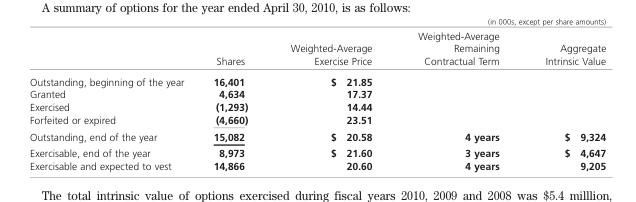table: (29, 29, 605, 171)
table column: (29, 29, 198, 171), (394, 29, 521, 171), (268, 29, 394, 171), (521, 29, 605, 171), (198, 29, 268, 171)
table column header: (29, 29, 605, 70)
table row: (29, 29, 605, 70), (29, 70, 605, 87), (29, 127, 605, 144), (29, 112, 605, 127), (29, 144, 605, 158), (29, 87, 605, 100), (29, 158, 605, 171), (29, 100, 605, 112)
